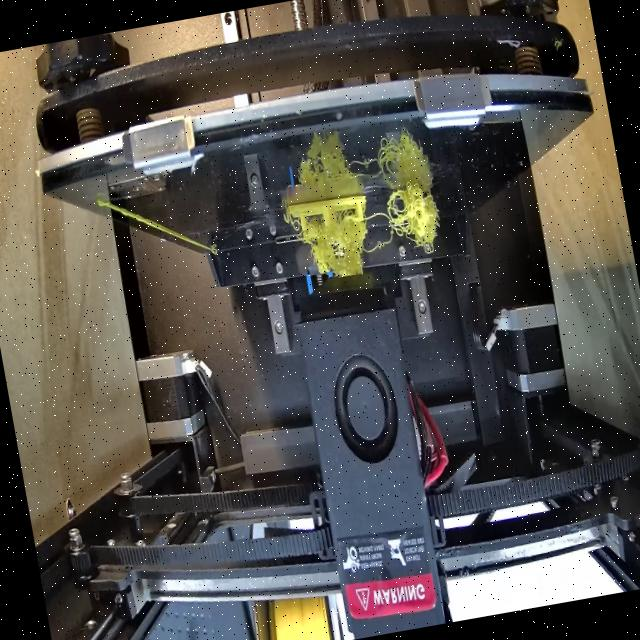spaghetti: (298, 204, 395, 293), (379, 178, 446, 257)
